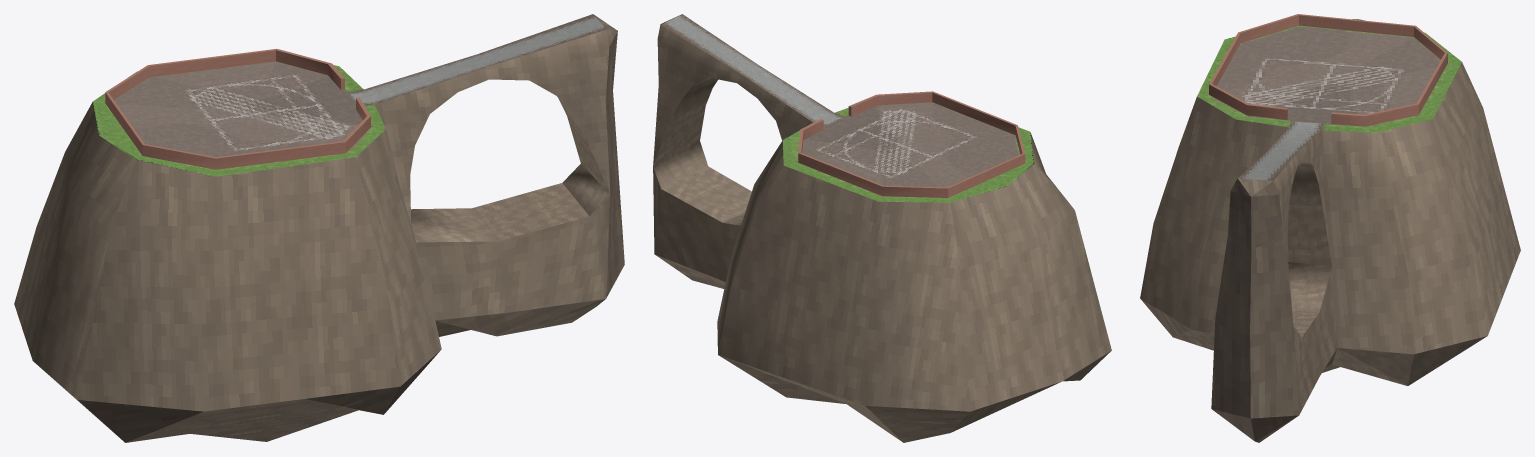
The model's file is 05a6_Old_Middle_School.glb.
3 renders of one model, left to right at view 1: azimuth 30°, elevation 25°; view 2: azimuth 150°, elevation 25°; view 3: azimuth 270°, elevation 25°, orthographic. The views are drawn at different scales.
Parts seen in each view (by area): view 1: part_0; view 2: part_0; view 3: part_0.
Boxes of the visible parts, <box> form: part_0: <box>14,14,624,442</box>; part_0: <box>653,14,1111,442</box>; part_0: <box>1140,14,1520,442</box>.
Size of the model in its own units: 171 by 111 by 113.
1 material, 1 textured.
